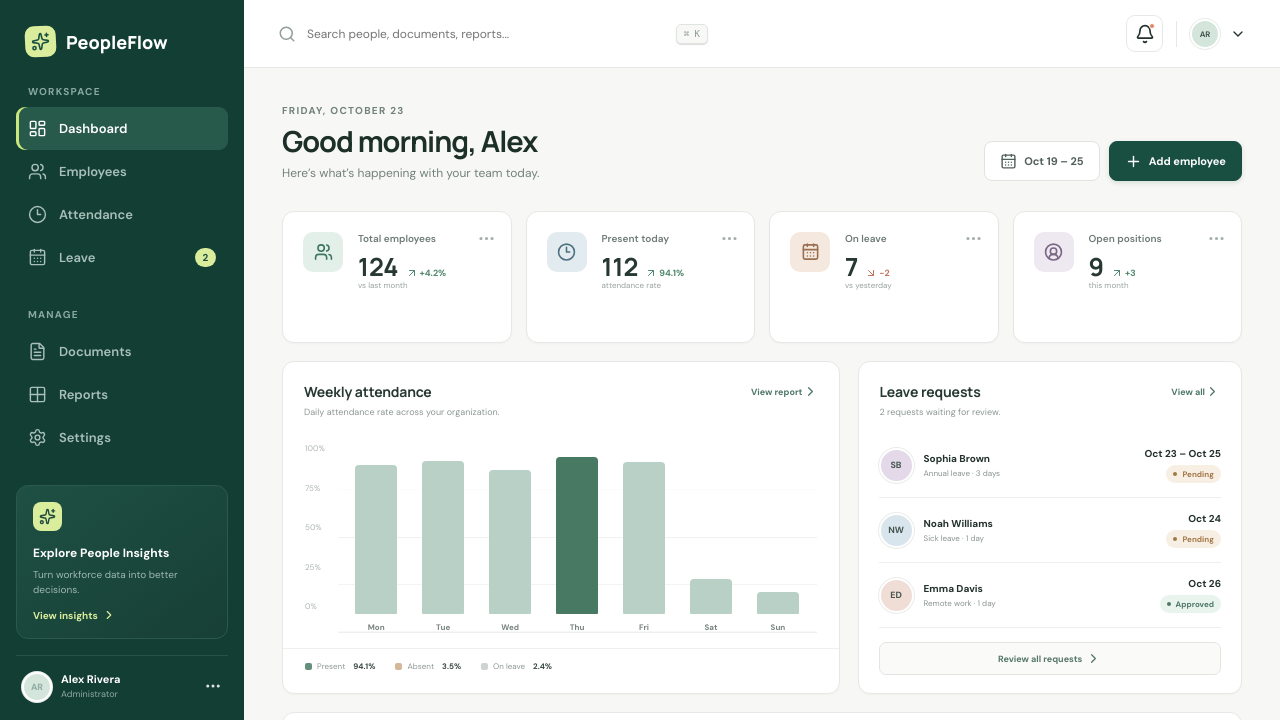
Test: PeopleFlow › navigates to the employee directory and filters employees
The image size is (1280, 720).
Click the button "Employees" at (122, 172), box x1=16 y1=150 x2=228 y2=193
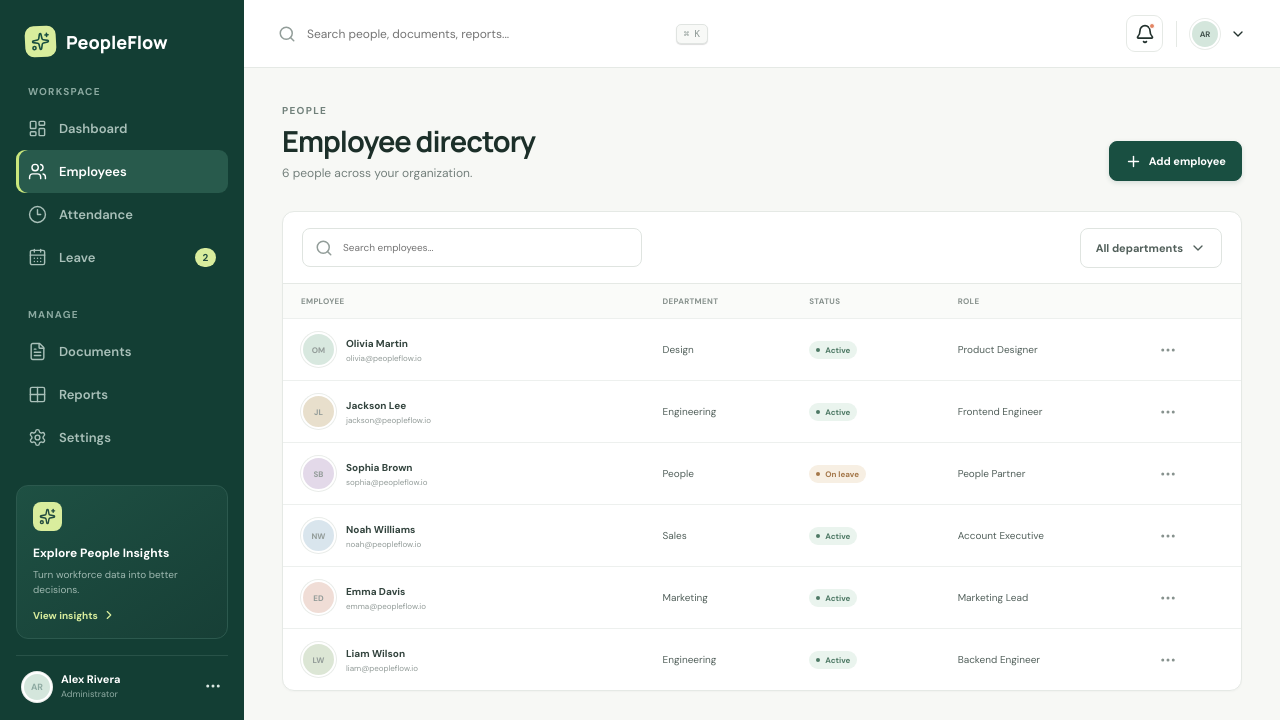
Expected: the heading "Employee directory" is shown, x1=282 y1=125 x2=535 y2=158
Type "Jackson" into the field with placeholder "Search employees..." at (485, 248), box x1=341 y1=240 x2=629 y2=256
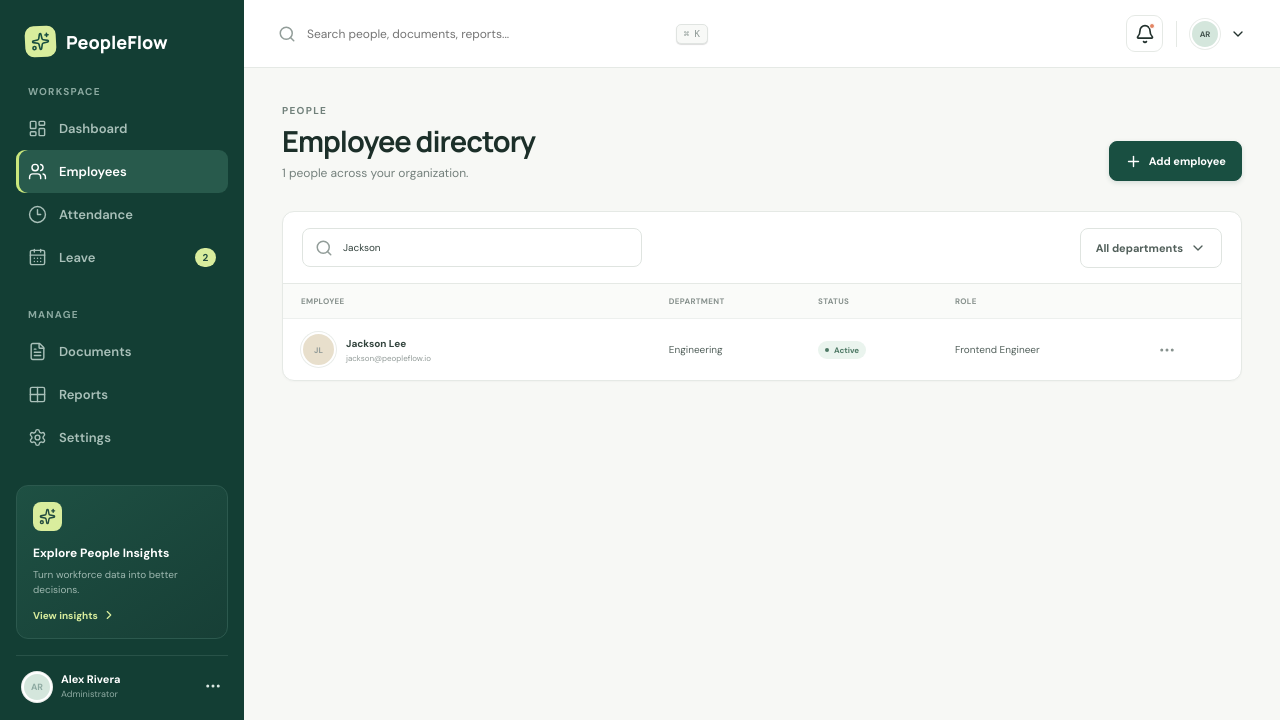
Expected: the text "Jackson Lee" is shown, x1=346 y1=337 x2=406 y2=350
Expected: the text "Olivia Martin" is gone
